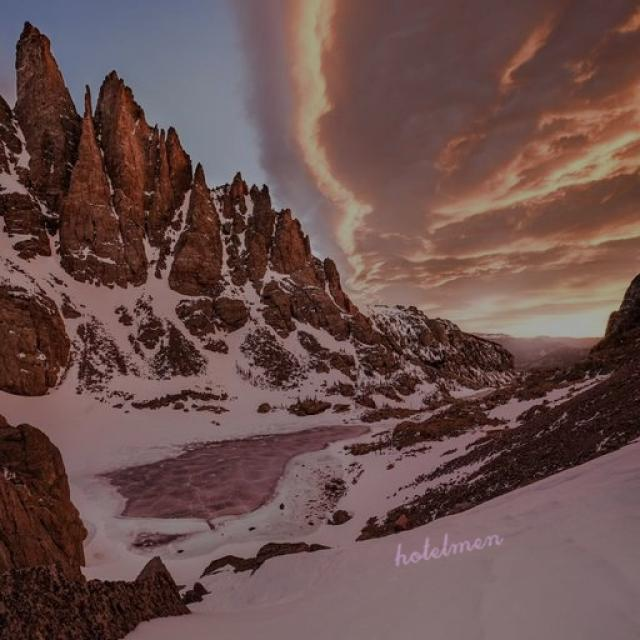watermark: (388, 520, 502, 570)
